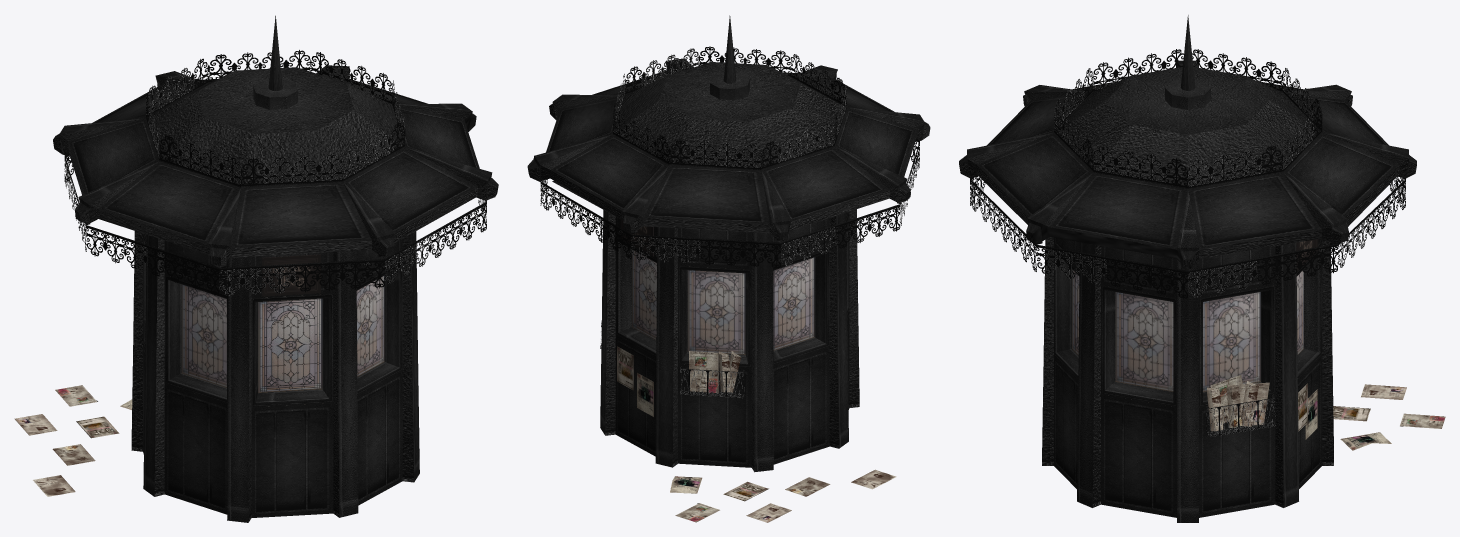
File: kiosk.fbx
3 renders of one model, left to right at view 1: azimuth 30°, elevation 25°; view 2: azimuth 150°, elevation 25°; view 3: azimuth 270°, elevation 25°, orthographic. The views are drawn at different scales.
Visible parts, largest first — view 1: kiosk, Plane.013, Plane.017, Plane.016, Plane.018, Plane.015; view 2: kiosk, Plane.011, Plane.018, Plane.013, Plane.016, Plane.017, Plane.015; view 3: kiosk, Plane.016, Plane.015.
Boxes of the visible parts, <box> form: kiosk: <box>53,15,498,522</box>; Plane.013: <box>76,416,119,438</box>; Plane.017: <box>52,444,95,465</box>; Plane.016: <box>14,414,57,435</box>; Plane.018: <box>33,475,75,496</box>; Plane.015: <box>55,385,97,406</box>; kiosk: <box>527,15,930,472</box>; Plane.011: <box>670,476,702,493</box>; Plane.018: <box>851,469,896,489</box>; Plane.013: <box>723,481,768,501</box>; Plane.016: <box>746,503,791,522</box>; Plane.017: <box>785,477,830,496</box>; Plane.015: <box>675,503,719,522</box>; kiosk: <box>959,15,1416,522</box>; Plane.016: <box>1361,384,1406,399</box>; Plane.015: <box>1400,413,1445,428</box>.
Bounding box in the file's own units: 337 × 351 × 356.
